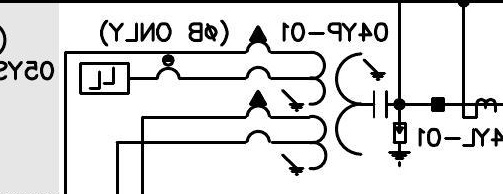115_cvt_1p: (243, 25, 389, 177)
115_la: (387, 122, 412, 168)
LL: (79, 62, 130, 96)
